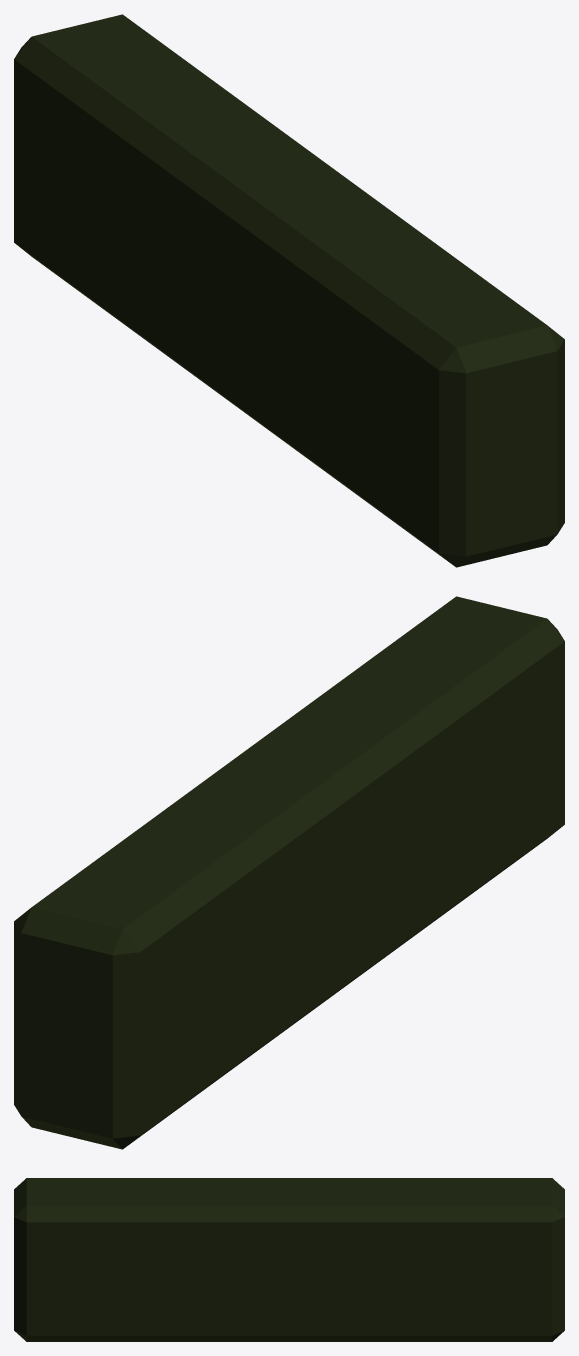
Rendered from MissileATQuad__Rack.obj.
The picture shows the model from 3 angles, top to bottom: view 1: azimuth 30°, elevation 25°; view 2: azimuth 150°, elevation 25°; view 3: azimuth 270°, elevation 25°; orthographic projection. The views are drawn at different scales.
Parts seen in each view (by area): view 1: Quad_rail_central_beam; view 2: Quad_rail_central_beam; view 3: Quad_rail_central_beam.
Part boxes in pixels (left/top/right/bottom): Quad_rail_central_beam: left=14, top=14, right=564, bottom=567; Quad_rail_central_beam: left=14, top=596, right=564, bottom=1149; Quad_rail_central_beam: left=14, top=1178, right=564, bottom=1341.
Bounding box in the file's own units: 0.18 × 0.3 × 1.1.
